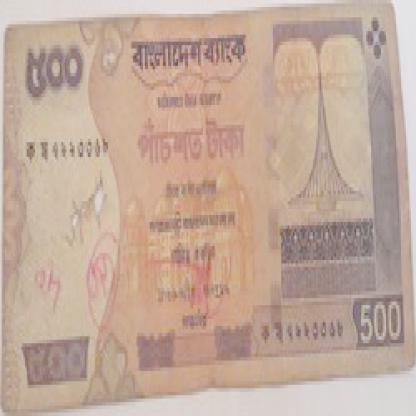500 taka: (121, 101, 263, 180), (20, 42, 93, 108)
currency: (0, 10, 411, 392)
